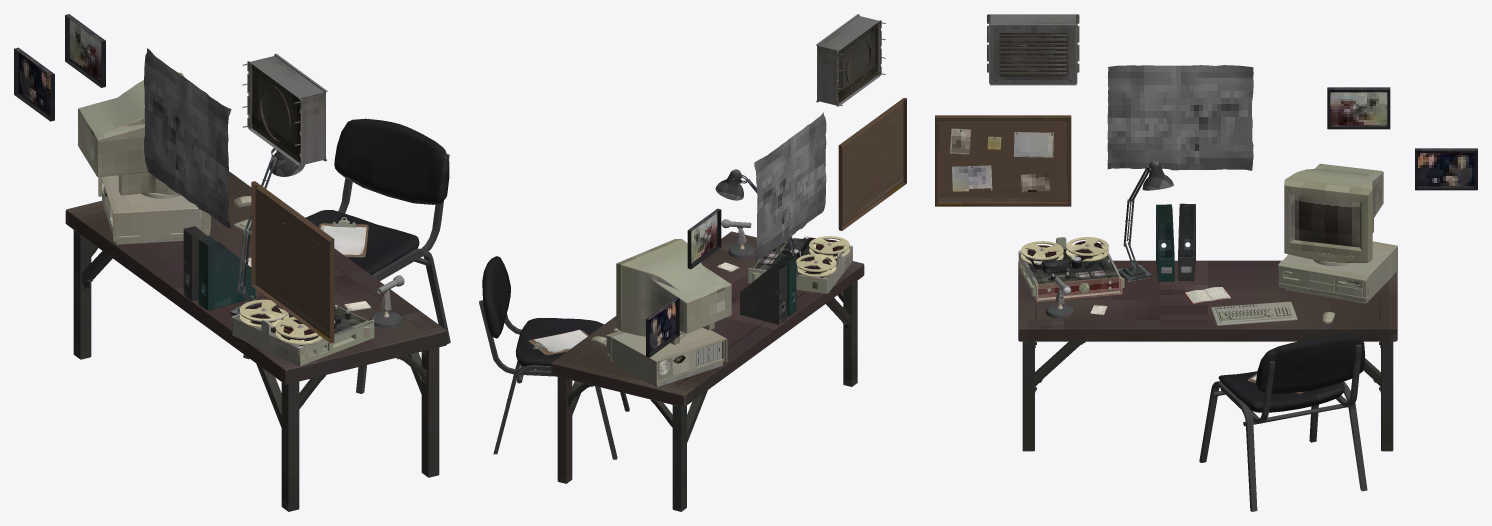
Rendered from office-assets.glb.
The picture shows the model from 3 angles, left to right: view 1: azimuth 30°, elevation 25°; view 2: azimuth 150°, elevation 25°; view 3: azimuth 270°, elevation 25°; orthographic projection. The views are drawn at different scales.
Parts seen in each view (by area): view 1: Table_Rough_32, Chair_51, Poster_Crumpled_45, PinBoard_24, Vent_44, Monitor_6, TapeRecorder_33, Computer_5, FileBox_Green_8, PhotoFrame1_47, PhotoFrame2_46, FileBox_Black_7 (+3 smaller); view 2: Table_Rough_32, Monitor_6, Poster_Crumpled_45, PinBoard_24, Chair_51, Computer_5, Vent_44, TapeRecorder_33, FileBox_Black_7, PhotoFrame1_47, PhotoFrame2_46, FileBox_Green_8 (+3 smaller); view 3: Table_Rough_32, Poster_Crumpled_45, Chair_51, PinBoard_24, Monitor_6, TapeRecorder_33, Computer_5, PhotoFrame1_47, PhotoFrame2_46, Vent_44, Vent_Cover_Frame_43, Vent_Cover_39 (+8 smaller).
Part boxes in pixels (x1,y1,x2,y2): Table_Rough_32: [65, 171, 447, 511]; Chair_51: [243, 118, 450, 393]; Poster_Crumpled_45: [144, 48, 231, 228]; PinBoard_24: [251, 181, 334, 343]; Vent_44: [247, 53, 327, 166]; Monitor_6: [78, 72, 184, 198]; TapeRecorder_33: [232, 299, 374, 366]; Computer_5: [98, 175, 210, 244]; FileBox_Green_8: [198, 235, 255, 310]; PhotoFrame1_47: [65, 14, 105, 87]; PhotoFrame2_46: [14, 47, 54, 121]; FileBox_Black_7: [183, 226, 206, 300]; Table_Rough_32: [551, 231, 864, 511]; Monitor_6: [616, 239, 731, 344]; Poster_Crumpled_45: [754, 112, 826, 260]; PinBoard_24: [838, 98, 906, 230]; Chair_51: [479, 256, 629, 459]; Computer_5: [605, 327, 727, 386]; Vent_44: [816, 14, 881, 106]; TapeRecorder_33: [748, 236, 852, 293]; FileBox_Black_7: [740, 263, 786, 324]; PhotoFrame1_47: [687, 208, 721, 269]; PhotoFrame2_46: [646, 297, 679, 357]; FileBox_Green_8: [751, 254, 796, 316]; Table_Rough_32: [1018, 260, 1397, 451]; Poster_Crumpled_45: [1107, 65, 1253, 170]; Chair_51: [1199, 333, 1367, 511]; PinBoard_24: [935, 115, 1071, 206]; Monitor_6: [1284, 163, 1383, 266]; TapeRecorder_33: [1018, 237, 1124, 301]; Computer_5: [1278, 241, 1397, 303]; PhotoFrame1_47: [1327, 87, 1390, 129]; PhotoFrame2_46: [1415, 148, 1477, 190]; Vent_44: [987, 14, 1079, 85]; Vent_Cover_Frame_43: [990, 26, 1075, 83]; Vent_Cover_39: [999, 34, 1066, 74].
Size of the model in its own units: 1.72 by 2.18 by 2.89.
12 materials, 12 textured.
